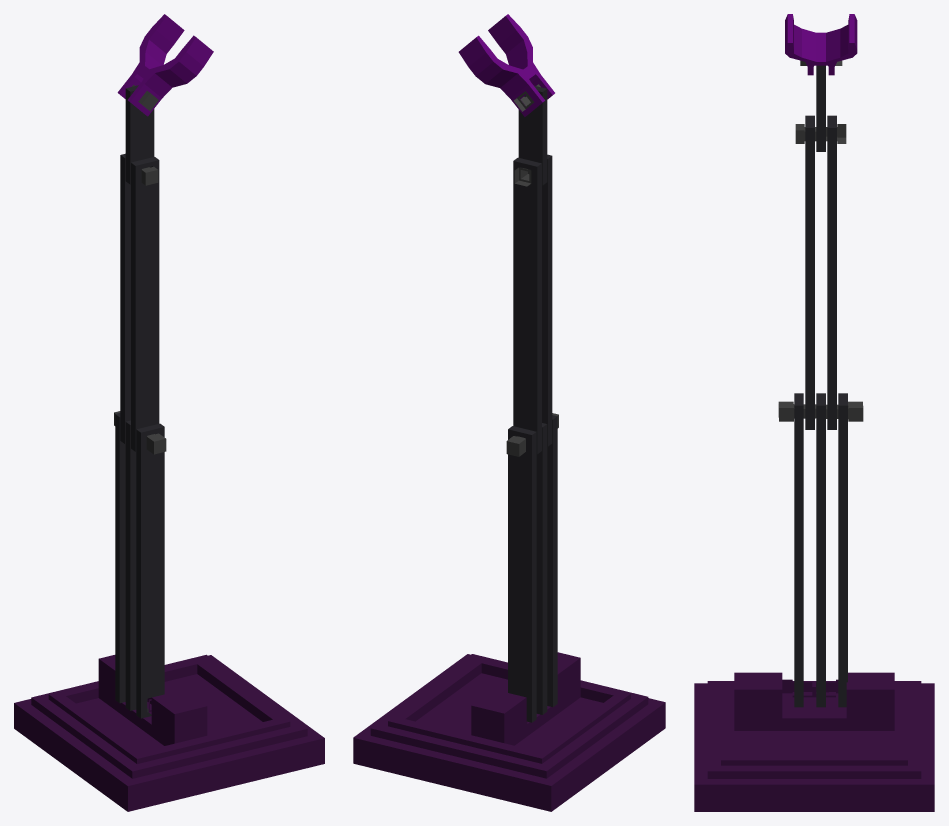
Rendered from RoboticGrabberArm (1).fbx.
3 renders of one model, left to right at view 1: azimuth 30°, elevation 25°; view 2: azimuth 150°, elevation 25°; view 3: azimuth 270°, elevation 25°, orthographic. The views are drawn at different scales.
Parts seen in each view (by area): view 1: Base, Bolts1, ArmSegment2, Claw, ArmSegment3; view 2: Base, Bolts1, ArmSegment2, Claw, ArmSegment3; view 3: Base, Bolts1, ArmSegment2, Claw, ArmSegment3.
Part boxes in pixels (bbox=[...]): Base: bbox=[14, 654, 324, 811]; Bolts1: bbox=[114, 411, 166, 718]; ArmSegment2: bbox=[120, 153, 159, 451]; Claw: bbox=[117, 14, 213, 116]; ArmSegment3: bbox=[125, 85, 158, 184]; Base: bbox=[353, 652, 665, 811]; Bolts1: bbox=[506, 413, 558, 722]; ArmSegment2: bbox=[513, 154, 552, 454]; Claw: bbox=[458, 14, 554, 116]; ArmSegment3: bbox=[513, 84, 547, 185]; Base: bbox=[694, 672, 934, 811]; Bolts1: bbox=[778, 393, 863, 707]; ArmSegment2: bbox=[795, 115, 846, 429]; Claw: bbox=[785, 14, 857, 75]; ArmSegment3: bbox=[800, 60, 842, 151].
Bounding box in the file's own units: 48 × 166 × 48.
